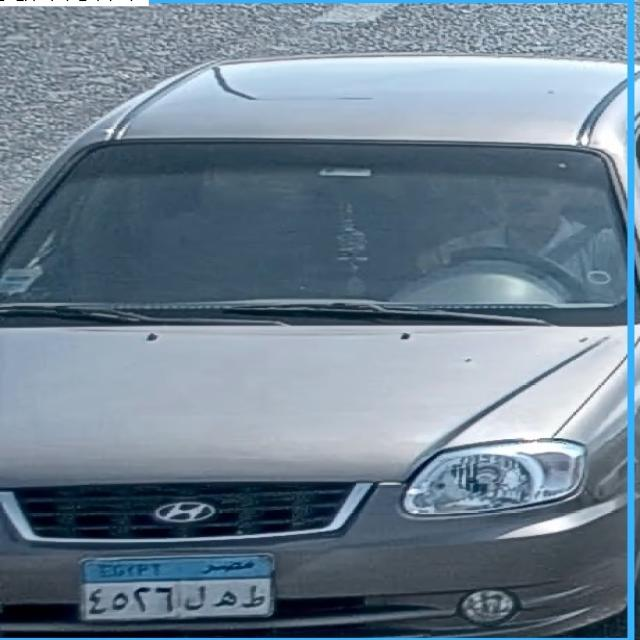windshield: (0, 152, 619, 318)
